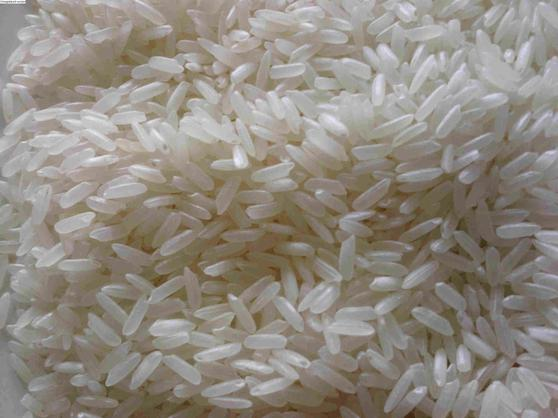rice: (32, 7, 546, 400)
